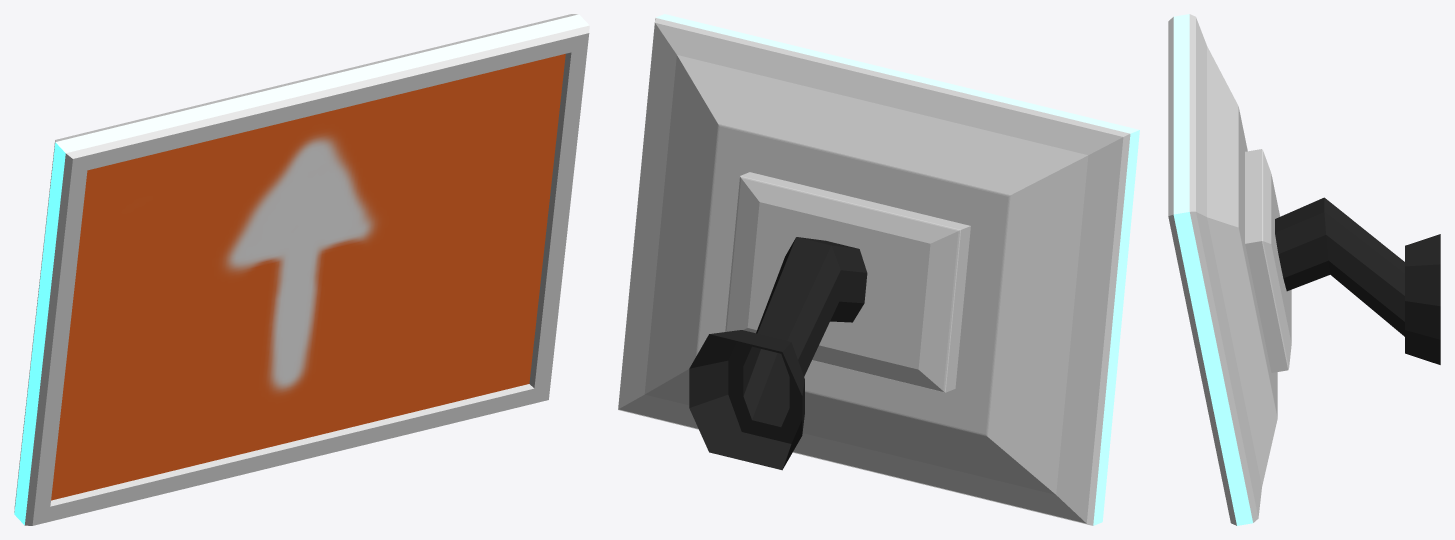
The model's file is SM_NodeTopMonitor.fbx.
3 renders of one model, left to right at view 1: azimuth 30°, elevation 25°; view 2: azimuth 150°, elevation 25°; view 3: azimuth 270°, elevation 25°, orthographic. The views are drawn at different scales.
Parts seen in each view (by area): view 1: NodeTopMonitor_00; view 2: NodeTopMonitor_00; view 3: NodeTopMonitor_00.
Part boxes in pixels (box(x1,y1,x2,y2)): NodeTopMonitor_00: box(14, 14, 589, 525); NodeTopMonitor_00: box(618, 14, 1139, 525); NodeTopMonitor_00: box(1168, 14, 1440, 525).
Size of the model in its own units: 46.64 by 34.53 by 27.14.
